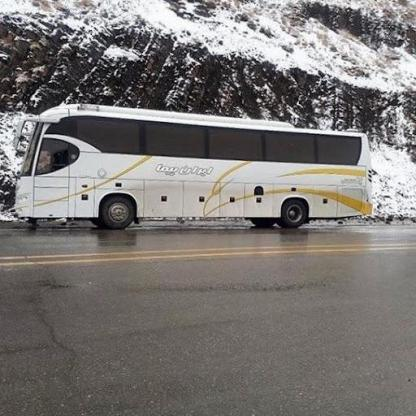Bus: (0, 95, 375, 246)
